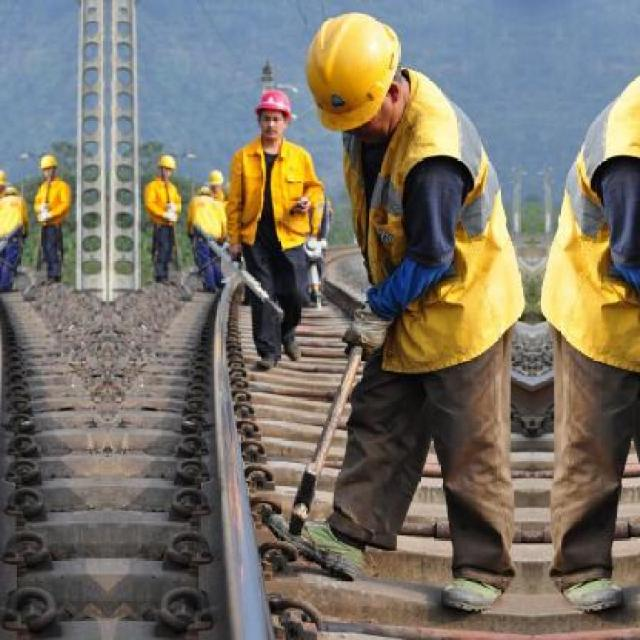helmet: (298, 5, 410, 133), (250, 80, 292, 145), (153, 148, 173, 185), (39, 148, 59, 185), (205, 167, 222, 196), (0, 166, 8, 197)
